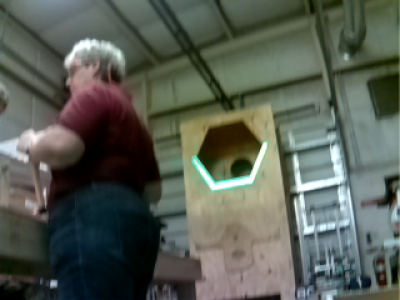target: (191, 140, 267, 190)
